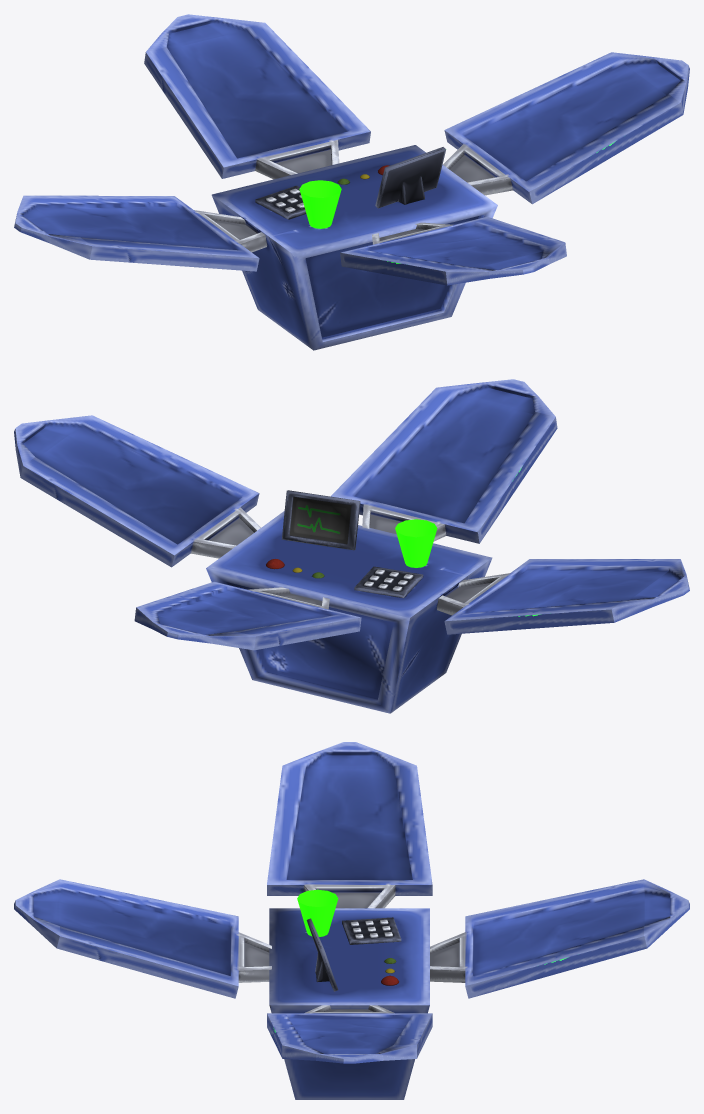
File: P_MesaMejoras_1.gltf
3 views of the same model, one above another, from view 1: azimuth 30°, elevation 25°; view 2: azimuth 150°, elevation 25°; view 3: azimuth 270°, elevation 25° (orthographic). The views are drawn at different scales.
Parts seen in each view (by area): view 1: base_low, ala2_low, ala3_low, ala_low, ala4_low, pantalla_low, baseHolo_low, panel_low; view 2: base_low, ala4_low, ala3_low, ala_low, ala2_low, pantalla_low, baseHolo_low, panel_low; view 3: ala_low, base_low, ala2_low, ala4_low, ala3_low, baseHolo_low, panel_low, pantalla_low.
Boxes of the visible parts, x1,y1,x2,y2 form: base_low: [211, 145, 497, 350]; ala2_low: [144, 14, 370, 179]; ala3_low: [443, 52, 689, 204]; ala_low: [14, 195, 267, 271]; ala4_low: [340, 216, 566, 285]; pantalla_low: [375, 147, 446, 208]; baseHolo_low: [299, 180, 341, 228]; panel_low: [255, 185, 306, 219]; base_low: [206, 511, 492, 713]; ala4_low: [330, 379, 557, 543]; ala3_low: [14, 415, 260, 567]; ala_low: [437, 559, 689, 634]; ala2_low: [134, 581, 361, 650]; pantalla_low: [281, 490, 360, 550]; baseHolo_low: [395, 519, 437, 567]; panel_low: [354, 566, 423, 598]; ala_low: [267, 742, 432, 908]; base_low: [269, 908, 429, 1099]; ala2_low: [430, 879, 689, 998]; ala4_low: [14, 879, 271, 998]; ala3_low: [267, 1005, 432, 1063]; baseHolo_low: [297, 889, 338, 936]; panel_low: [342, 917, 401, 944]; pantalla_low: [306, 918, 338, 991].
Size of the model in its own units: 7.23 by 1.75 by 6.49.
Materials: 1 (1 with a texture image).
